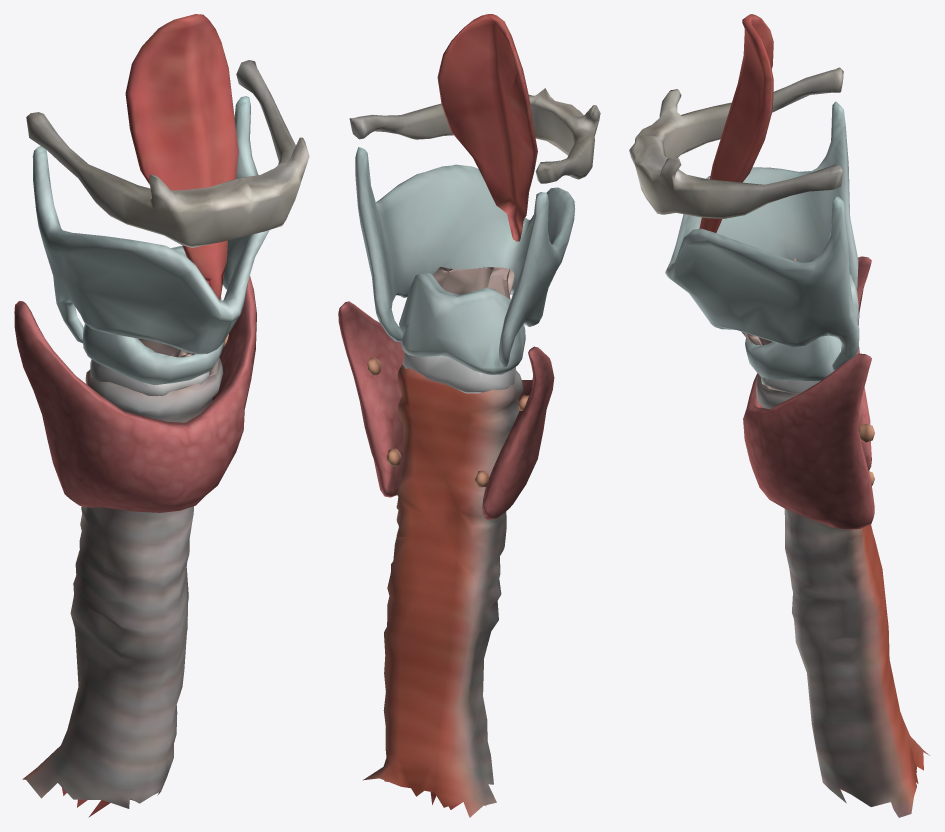
The model's file is thyroid-larynx.glb.
3 views of the same model, side by side, from view 1: azimuth 30°, elevation 25°; view 2: azimuth 150°, elevation 25°; view 3: azimuth 270°, elevation 25° (orthographic). The views are drawn at different scales.
Visible parts, largest first — view 1: Trachea, Thyroid_gland, Thyroid_cartilage, Epiglottis, Hyoid_bone, Cricoid_cartilage, Cricotracheal_ligament; view 2: Trachea, Thyroid_cartilage, Epiglottis, Thyroid_gland, Cricoid_cartilage, Hyoid_bone, Cricotracheal_ligament, Left_lateral_cricothyroid_ligament, Medial_cricothyroid_ligament; view 3: Trachea, Thyroid_cartilage, Thyroid_gland, Hyoid_bone, Epiglottis, Cricoid_cartilage, Cricotracheal_ligament.
Boxes of the visible parts, x1,y1,x2,y2 form: Trachea: (22,357,223,817); Thyroid_gland: (14,276,256,512); Thyroid_cartilage: (32,96,269,354); Epiglottis: (125,14,238,299); Hyoid_bone: (26,60,309,247); Cricoid_cartilage: (82,246,224,385); Cricotracheal_ligament: (90,359,209,395); Trachea: (363,364,523,817); Thyroid_cartilage: (355,147,575,367); Epiglottis: (437,14,537,241); Thyroid_gland: (338,301,554,519); Cricoid_cartilage: (399,273,525,374); Hyoid_bone: (349,88,600,183); Cricotracheal_ligament: (402,352,515,393); Left_lateral_cricothyroid_ligament: (433,267,493,294); Medial_cricothyroid_ligament: (487,267,514,296); Trachea: (756,374,929,817); Thyroid_cartilage: (665,101,859,370); Thyroid_gland: (743,256,874,529); Hyoid_bone: (629,67,843,218); Epiglottis: (699,14,773,232); Cricoid_cartilage: (745,257,858,380); Cricotracheal_ligament: (760,377,820,393).
Bounding box in the file's own units: 0.0416 × 0.1441 × 0.05.
Materials: 14 (14 with a texture image).
